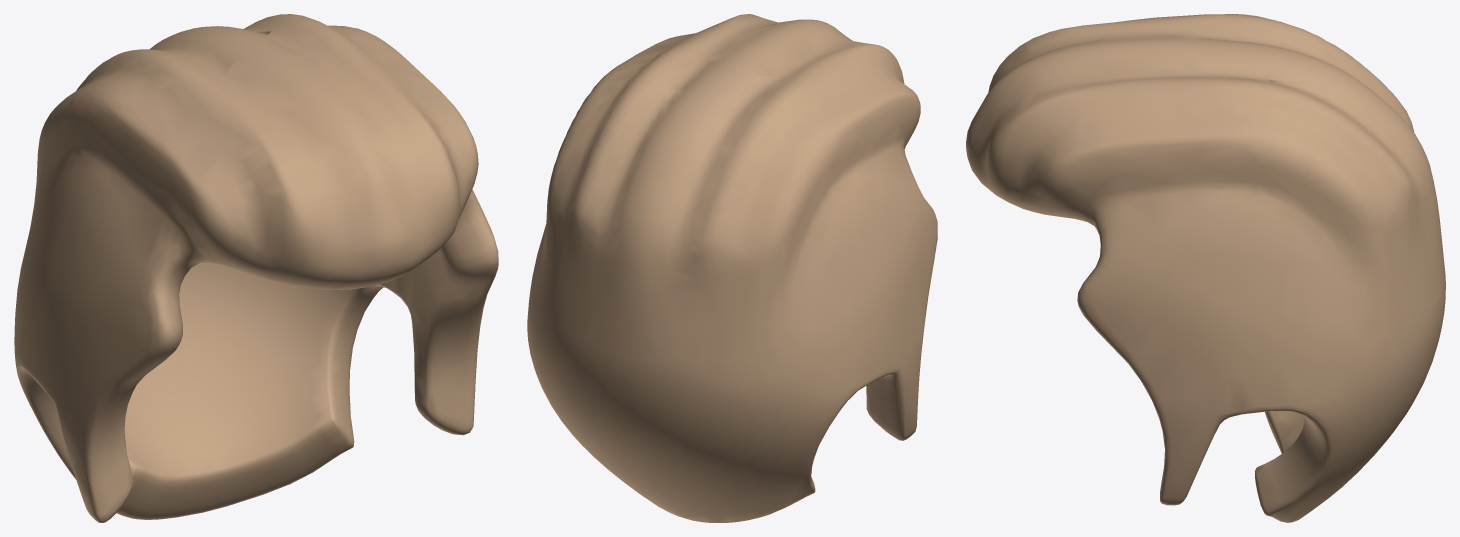
The model's file is hair-5-7a55ce57.glb.
3 views of the same model, side by side, from view 1: azimuth 30°, elevation 25°; view 2: azimuth 150°, elevation 25°; view 3: azimuth 270°, elevation 25° (orthographic). The views are drawn at different scales.
Parts seen in each view (by area): view 1: Geo_White_Old_Male_Hair_5.001; view 2: Geo_White_Old_Male_Hair_5.001; view 3: Geo_White_Old_Male_Hair_5.001.
Boxes of the visible parts, x1,y1,x2,y2 form: Geo_White_Old_Male_Hair_5.001: [14, 14, 498, 522]; Geo_White_Old_Male_Hair_5.001: [527, 14, 937, 522]; Geo_White_Old_Male_Hair_5.001: [966, 14, 1445, 522].
Size of the model in its own units: 1.38 by 1.66 by 1.57.
